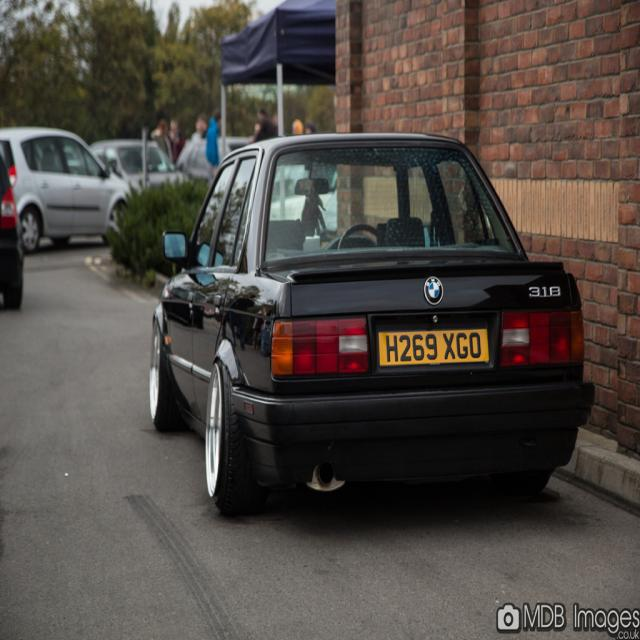car: (143, 130, 593, 512)
